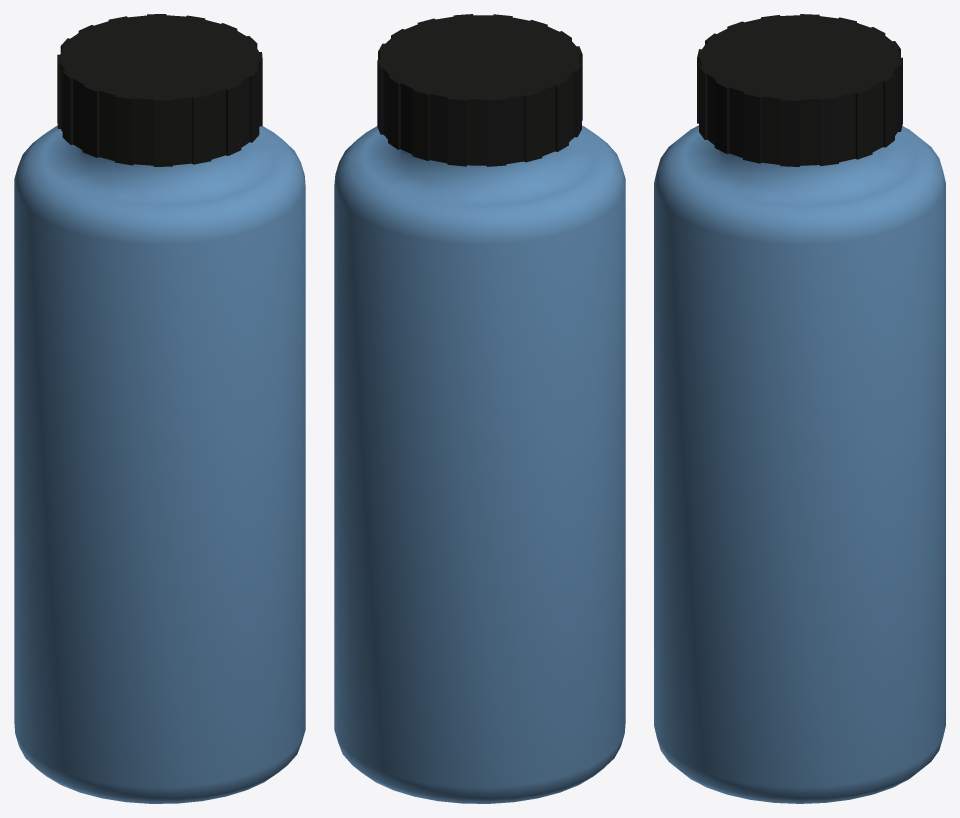
The model's file is Bottle (1).fbx.
3 renders of one model, left to right at view 1: azimuth 30°, elevation 25°; view 2: azimuth 150°, elevation 25°; view 3: azimuth 270°, elevation 25°, orthographic.
Visible parts, largest first — view 1: Cylinder, Cylinder.001; view 2: Cylinder, Cylinder.001; view 3: Cylinder, Cylinder.001.
Boxes of the visible parts, x1,y1,x2,y2 form: Cylinder: (14,125,305,803); Cylinder.001: (57,14,262,166); Cylinder: (334,125,625,803); Cylinder.001: (377,14,582,166); Cylinder: (654,125,945,803); Cylinder.001: (697,14,902,166).
Size of the model in its own units: 200 by 525 by 200.
1 material, 1 textured.
